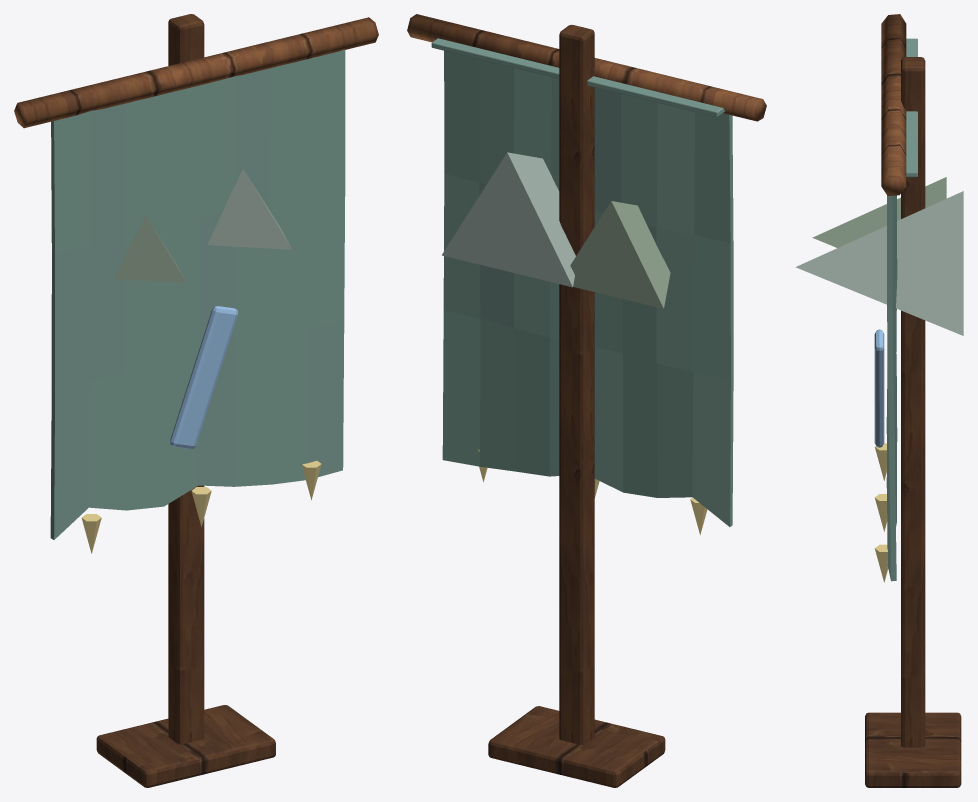
The model's file is banner_landscape.glb.
3 renders of one model, left to right at view 1: azimuth 30°, elevation 25°; view 2: azimuth 150°, elevation 25°; view 3: azimuth 270°, elevation 25°, orthographic. The views are drawn at different scales.
Parts seen in each view (by area): view 1: model; view 2: model; view 3: model.
Part boxes in pixels (bbox=[...]): model: bbox=[14, 14, 378, 787]; model: bbox=[407, 14, 766, 787]; model: bbox=[795, 14, 963, 787].
Size of the model in its own units: 0.8 by 1.6 by 0.35.
7 materials, 2 textured.
